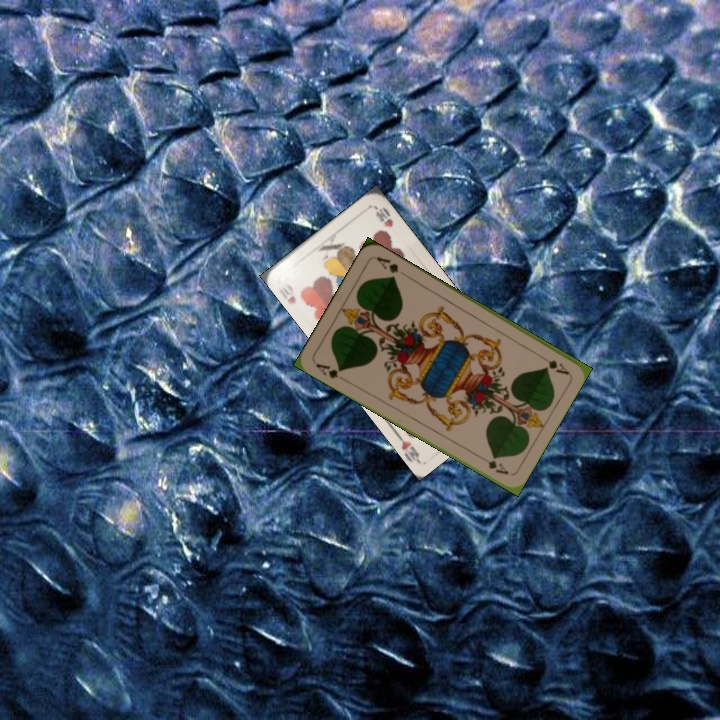GA: (534, 350, 571, 377), (312, 359, 345, 381)
H10: (278, 279, 299, 307)
